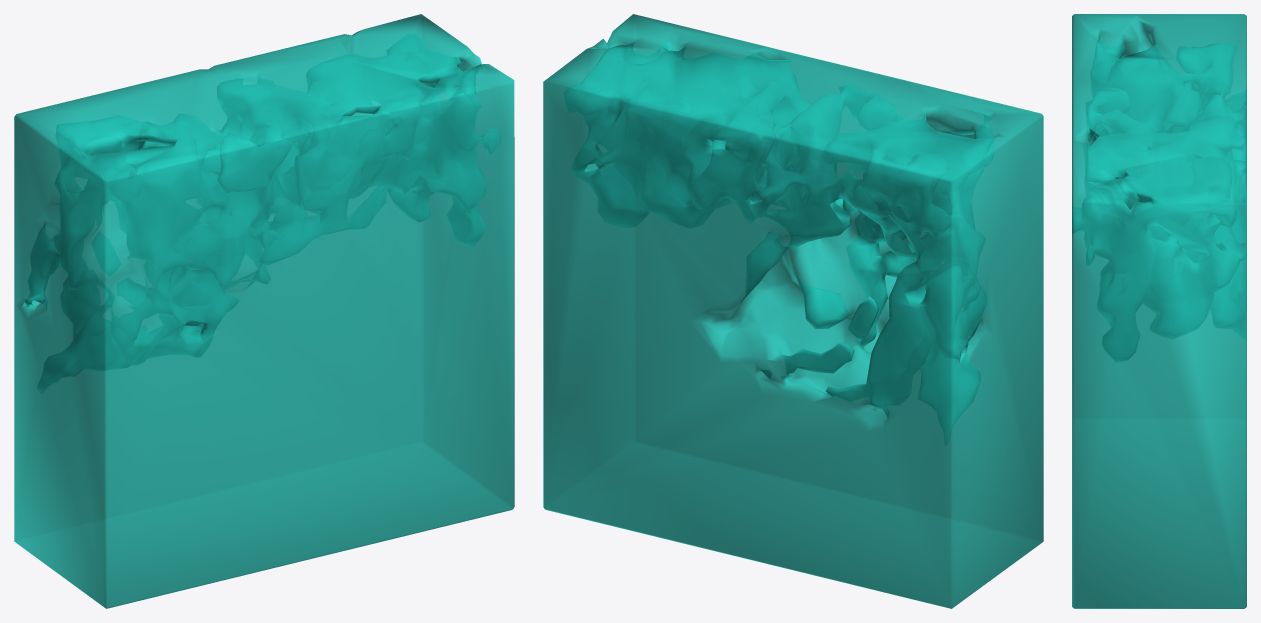
3 renders of one model, left to right at view 1: azimuth 30°, elevation 25°; view 2: azimuth 150°, elevation 25°; view 3: azimuth 270°, elevation 25°, orthographic. The views are drawn at different scales.
Parts seen in each view (by area): view 1: Liquid_Domain; view 2: Liquid_Domain; view 3: Liquid_Domain.
Part boxes in pixels (x1,y1,x2,y2): Liquid_Domain: (14,14,514,608); Liquid_Domain: (543,14,1043,608); Liquid_Domain: (1072,14,1246,608).
Bounding box in the file's own units: 884 × 884 × 344.
